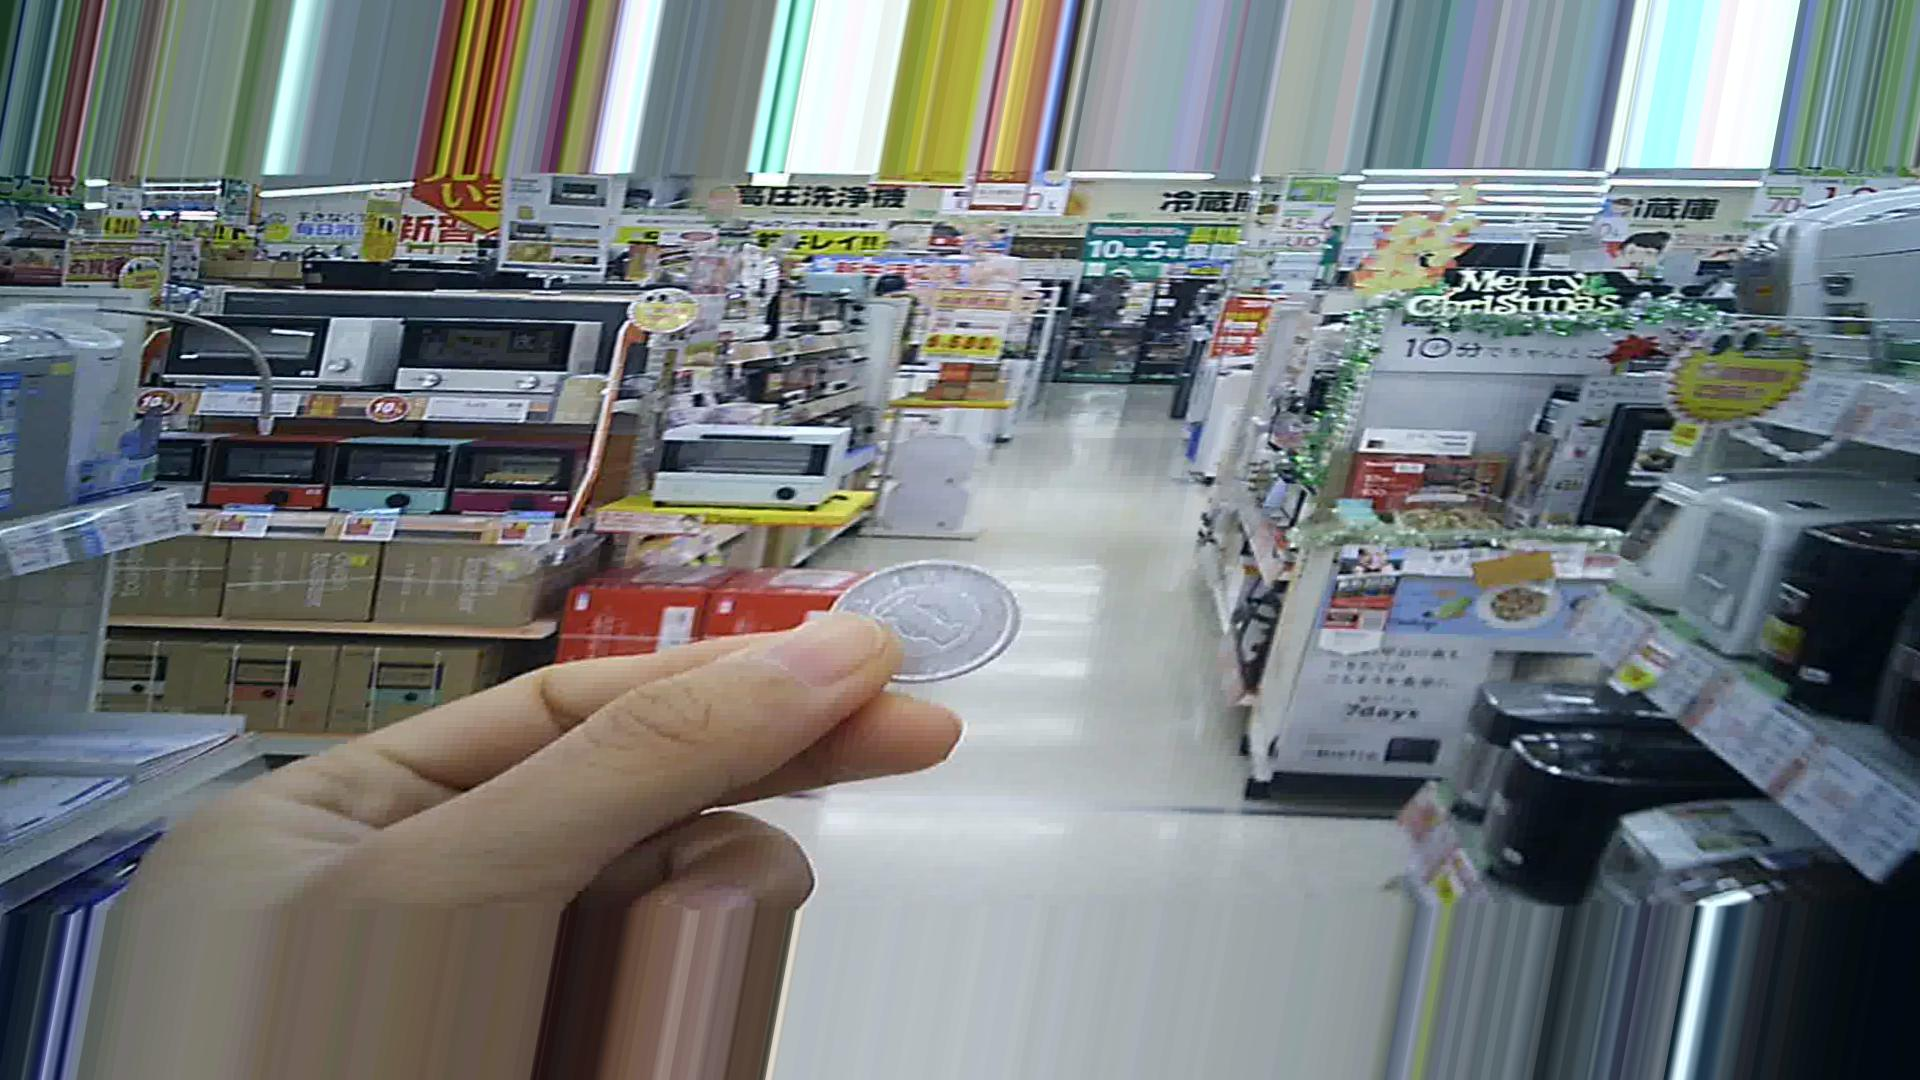1 Yen: (831, 549, 1029, 699)
